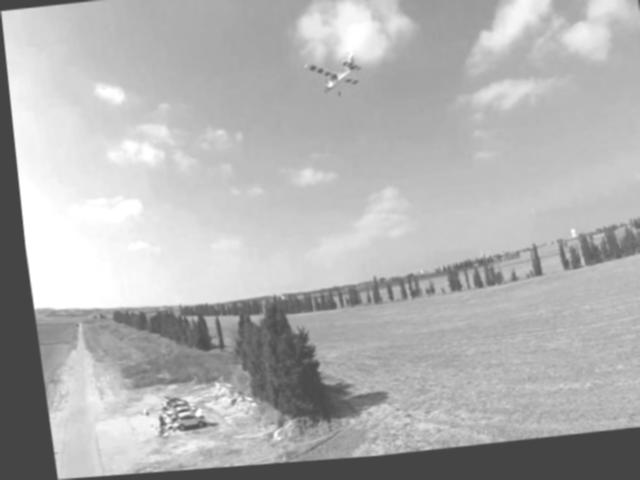hedef: (289, 50, 389, 109)
